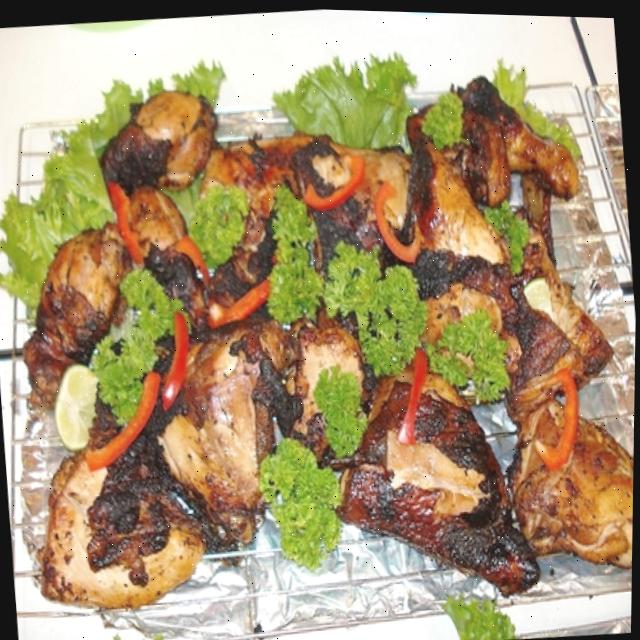鸡肉料理 含炸鸡: (7, 39, 640, 640)
